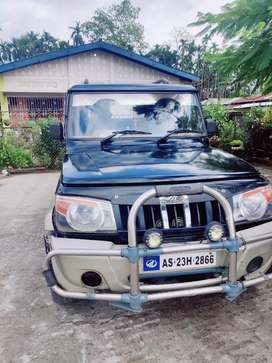AS23H2866: (143, 251, 216, 271)
